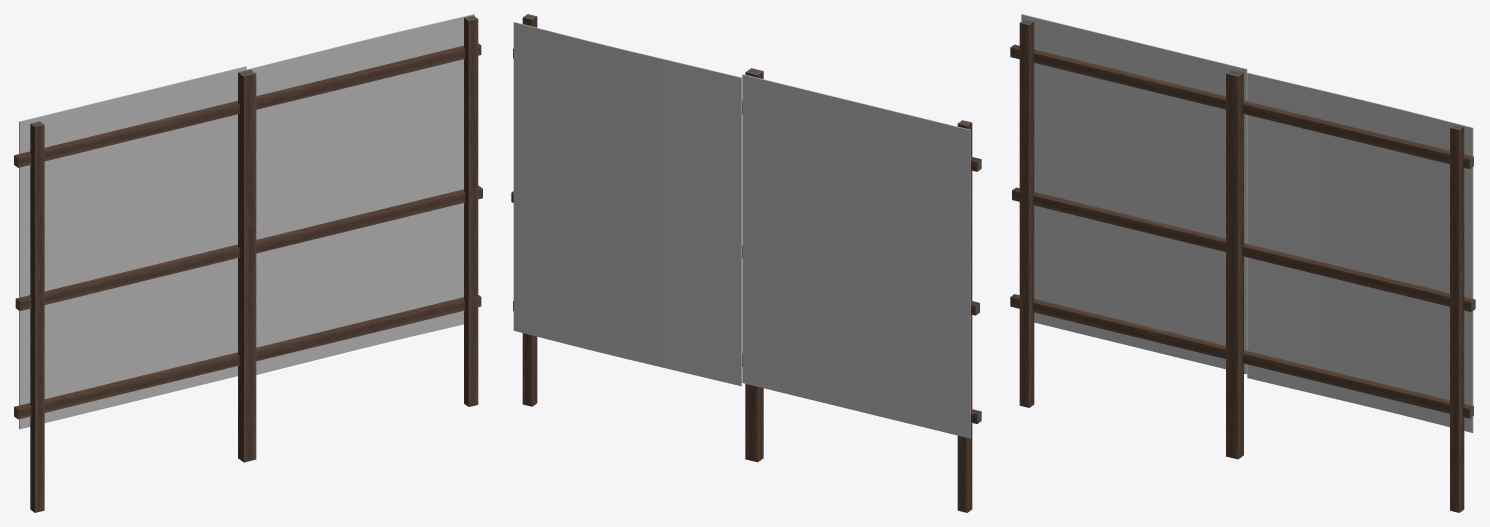
File: fence05a_1t.fbx
3 views of the same model, side by side, from view 1: azimuth 30°, elevation 25°; view 2: azimuth 150°, elevation 25°; view 3: azimuth 330°, elevation 25° (orthographic).
Visible parts, largest first — view 1: fence05a_1t; view 2: fence05a_1t; view 3: fence05a_1t.
Part boxes in pixels (x1,y1,x2,y2): fence05a_1t: (14, 14, 482, 512); fence05a_1t: (511, 14, 981, 512); fence05a_1t: (1010, 14, 1475, 512).
Bounding box in the file's own units: 224 × 178 × 8.72.
